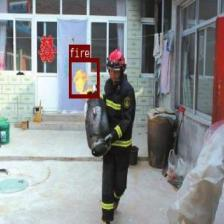fire: (68, 57, 98, 98)
